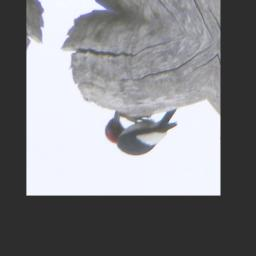Woodpecker: (98, 87, 184, 170)
